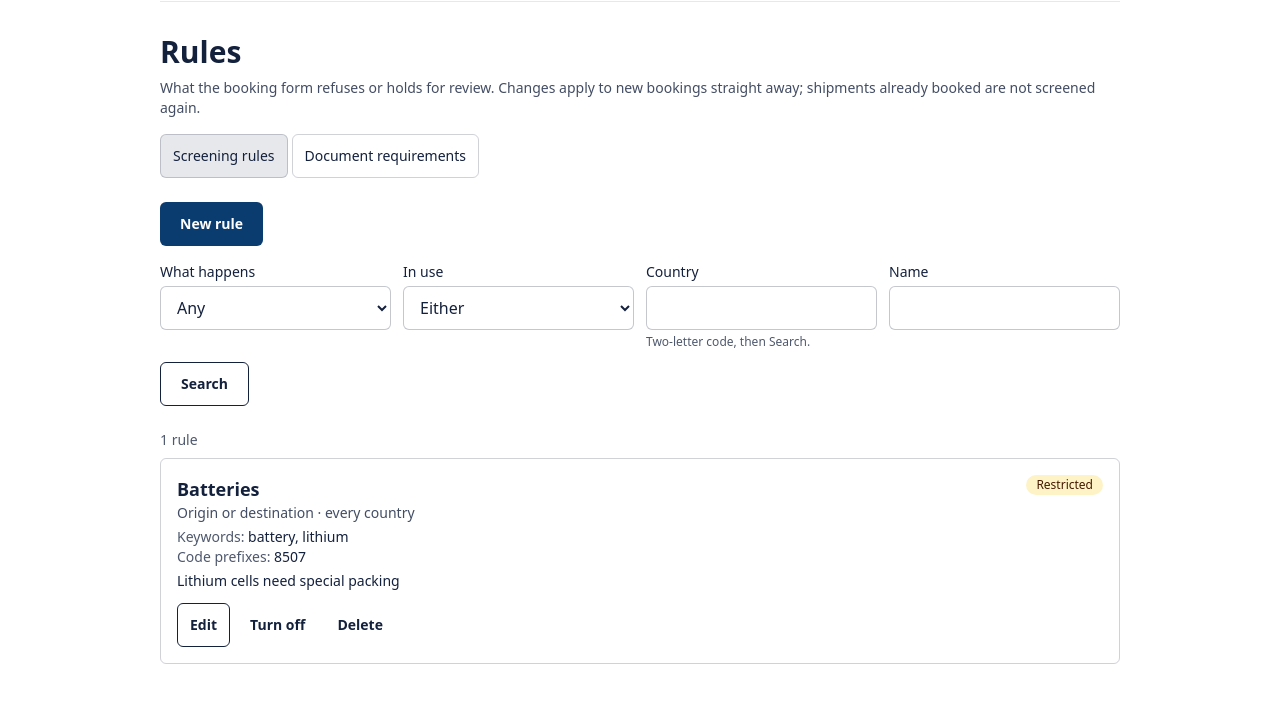
Test: screening rules screen › asks before deleting, and says what that means
(page scrolled)
Click the button named "Delete Batteries" at (360, 625), box 325,603 -> 395,647
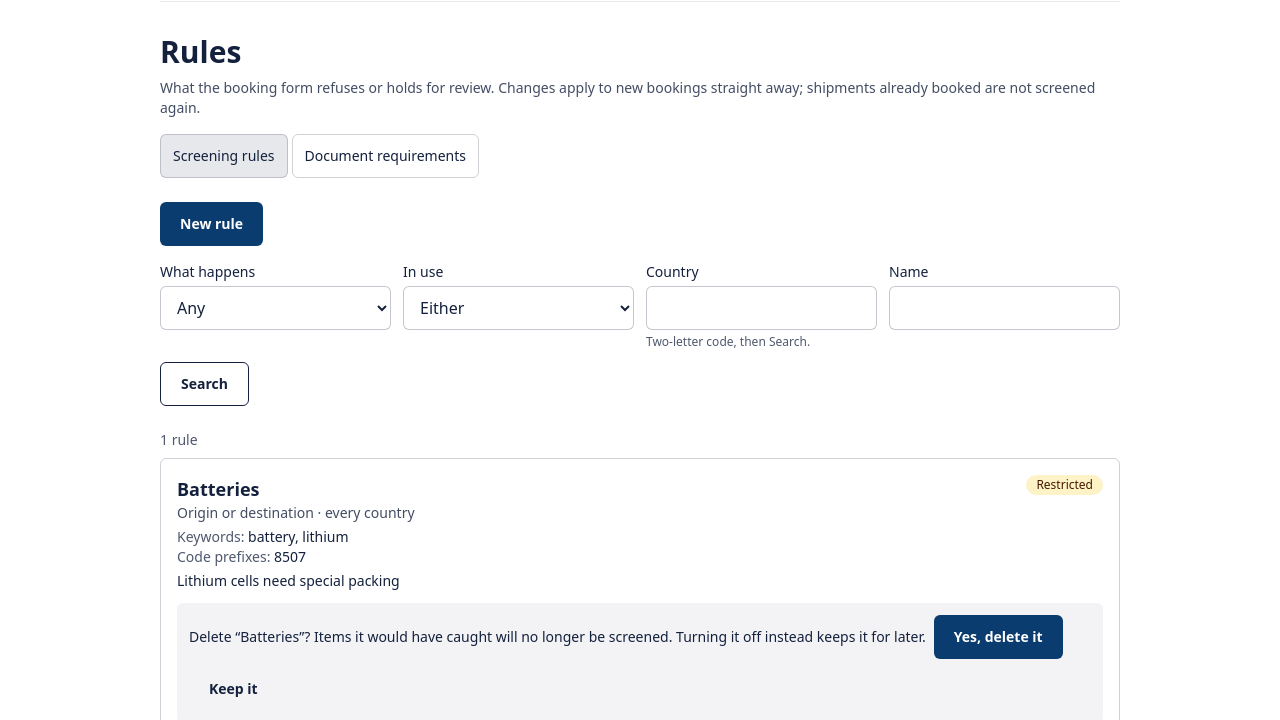
Check: the element named "Confirm deleting Batteries" shows "will no longer be screened", box 299,627 -> 926,646
Click the button "Keep it" at (233, 689), box 189,667 -> 278,711
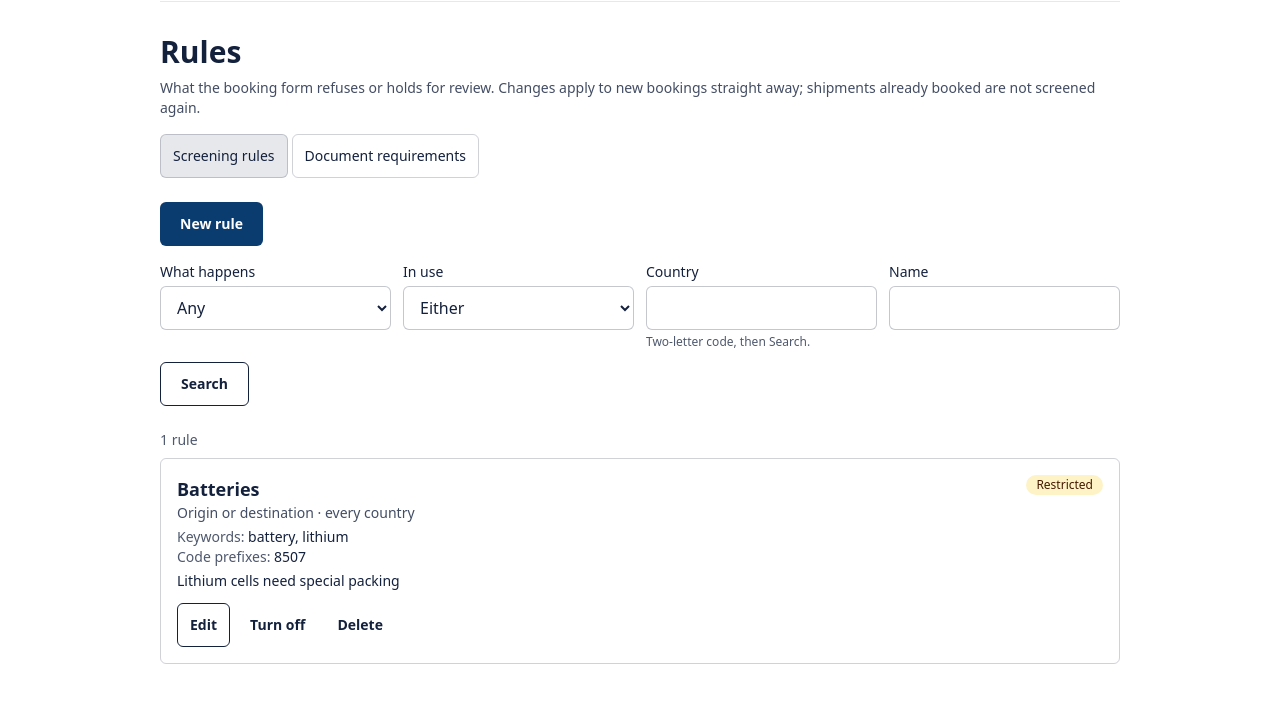
Click the button named "Delete Batteries" at (360, 625), box 325,603 -> 395,647
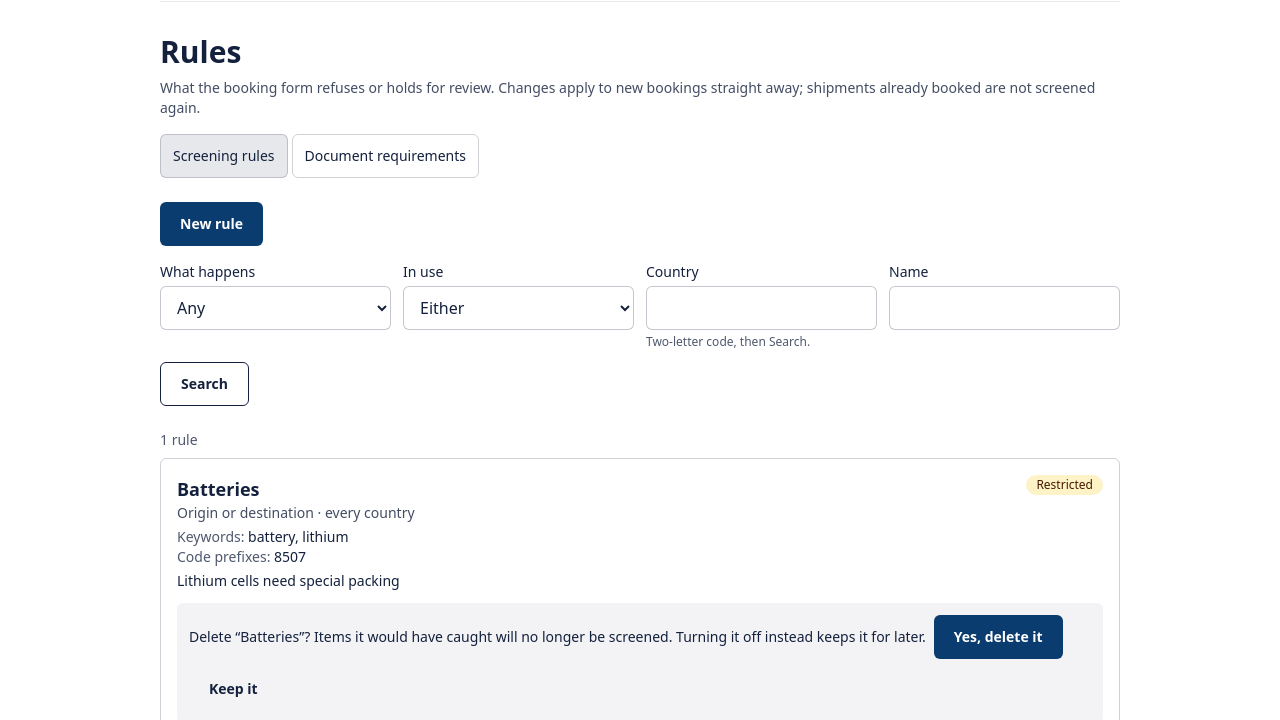
Click the button "Yes, delete it" at (998, 637), box 934,615 -> 1063,659
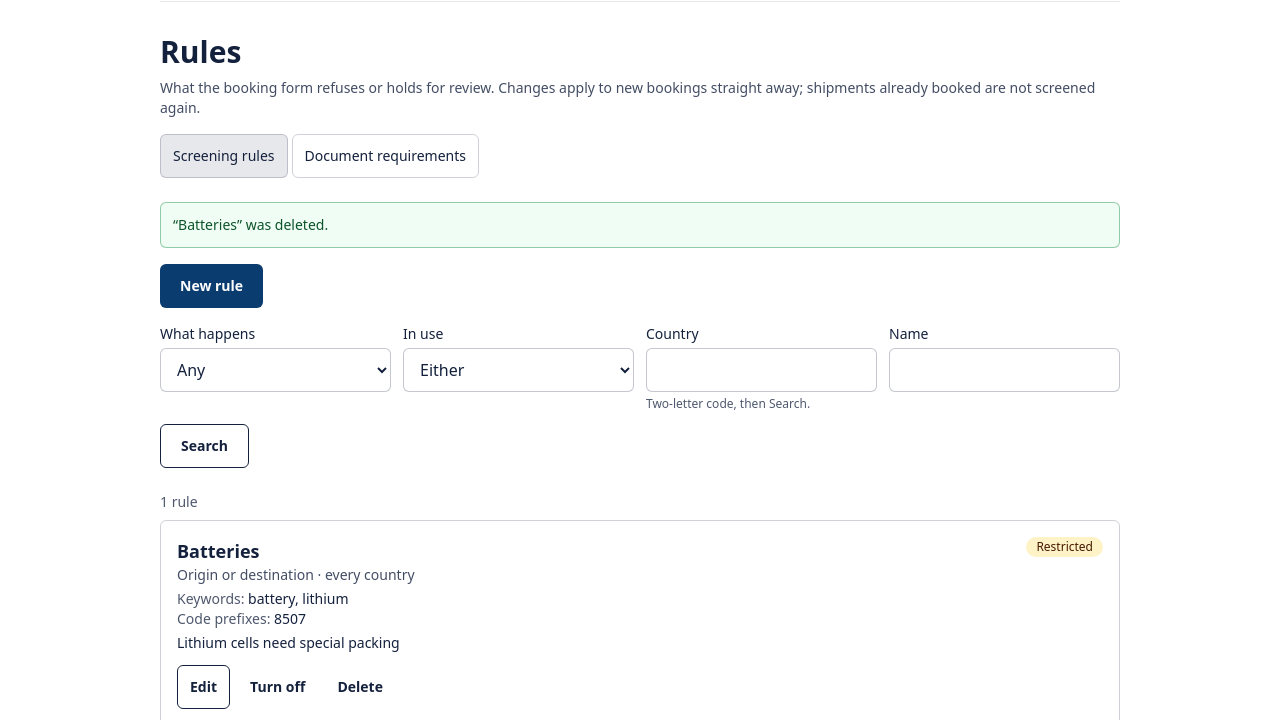
Check: the text "“Batteries” was deleted." is shown, box 160,202 -> 1120,248
